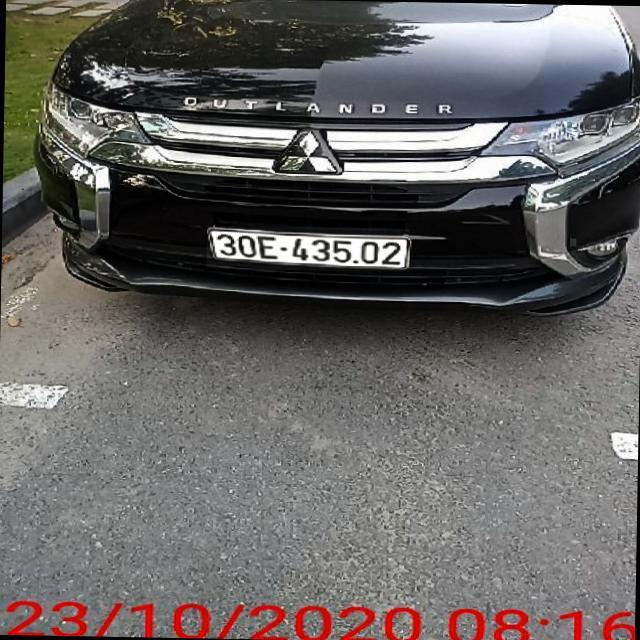car: (10, 12, 640, 313)
plate: (202, 224, 412, 276)
